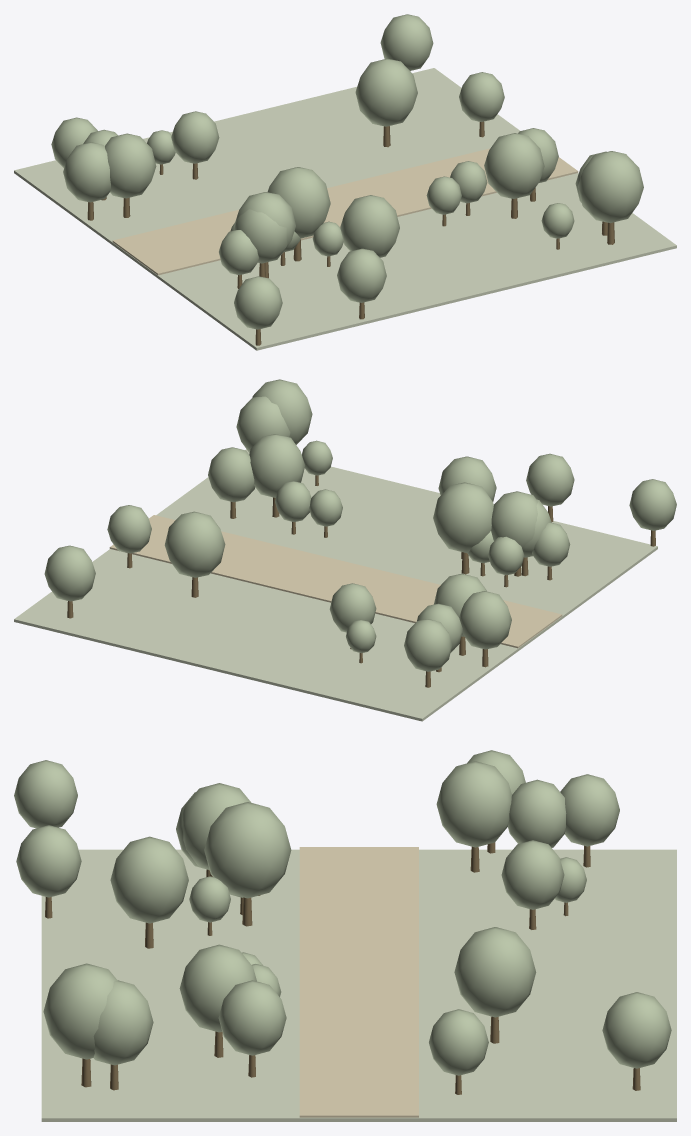
3 renders of one model, top to bottom at view 1: azimuth 30°, elevation 25°; view 2: azimuth 150°, elevation 25°; view 3: azimuth 270°, elevation 25°, orthographic. The views are drawn at different scales.
Visible parts, largest first — view 1: terrain, object 2, lod-near-28, lod-near-7, lod-near-0, lod-near-15, lod-near-5, lod-near-2, lod-near-4, lod-near-14, lod-near-22, lod-near-24 (+12 smaller); view 2: terrain, object 2, lod-near-5, lod-near-7, lod-near-0, lod-near-4, lod-near-14, lod-near-23, lod-near-12, lod-near-30, lod-near-22, lod-near-24 (+14 smaller); view 3: terrain, object 2, lod-near-5, lod-near-7, lod-near-15, lod-near-2, lod-near-28, lod-near-14, lod-near-0, lod-near-12, lod-near-27, lod-near-22 (+9 smaller).
Boxes of the visible parts, x1,y1,x2,y2 form: terrain: [14, 68, 676, 350]; object 2: [112, 148, 578, 275]; lod-near-28: [578, 151, 643, 223]; lod-near-7: [355, 58, 417, 126]; lod-near-0: [484, 133, 544, 198]; lod-near-15: [340, 195, 399, 257]; lod-near-5: [267, 167, 330, 238]; lod-near-2: [105, 133, 156, 198]; lod-near-4: [63, 142, 110, 202]; lod-near-14: [380, 14, 433, 70]; lod-near-22: [337, 248, 386, 302]; lod-near-24: [234, 276, 282, 329]; terrain: [14, 449, 657, 721]; object 2: [109, 515, 562, 648]; lod-near-5: [433, 482, 493, 552]; lod-near-7: [164, 511, 225, 577]; lod-near-0: [249, 434, 305, 497]; lod-near-4: [459, 591, 511, 649]; lod-near-14: [44, 545, 95, 601]; lod-near-23: [491, 491, 537, 550]; lod-near-12: [208, 447, 255, 502]; lod-near-30: [404, 619, 452, 671]; lod-near-22: [526, 453, 574, 506]; lod-near-24: [629, 479, 676, 530]; terrain: [41, 849, 676, 1121]; object 2: [299, 847, 418, 1117]; lod-near-5: [204, 802, 291, 898]; lod-near-7: [454, 927, 536, 1017]; lod-near-15: [110, 836, 188, 923]; lod-near-2: [436, 761, 511, 847]; lod-near-28: [43, 963, 117, 1059]; lod-near-14: [602, 992, 671, 1068]; lod-near-0: [179, 944, 256, 1032]; lod-near-12: [218, 980, 286, 1055]; lod-near-27: [93, 980, 153, 1065]; lod-near-22: [16, 825, 81, 897].
Bounding box in the file's own units: 33.37 × 6.94 × 33.39.
